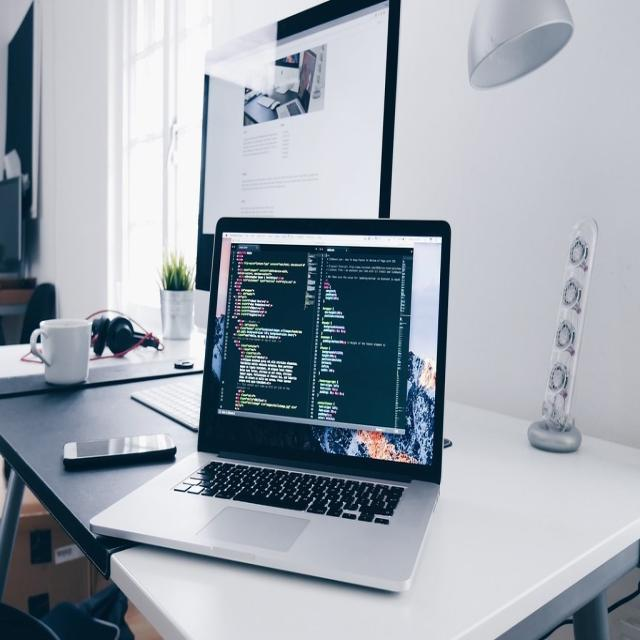E-waste: (77, 195, 466, 640)
